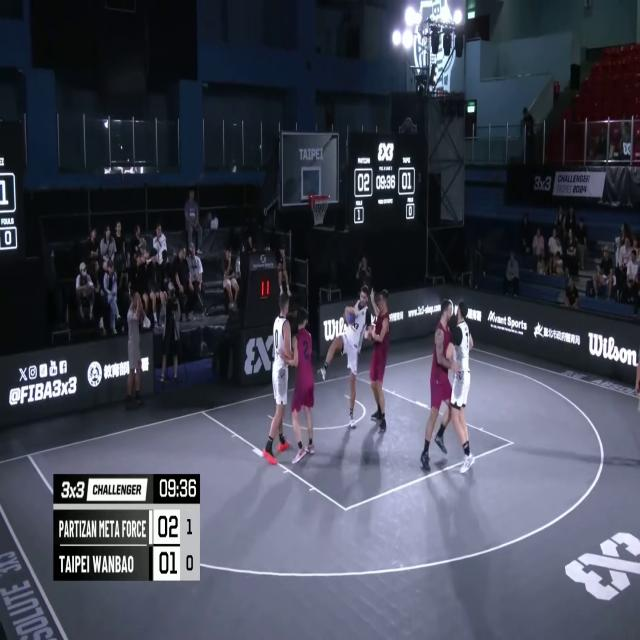ball: (343, 305, 356, 328)
hoop: (310, 192, 329, 227)
player: (318, 286, 376, 434), (421, 301, 455, 472), (264, 292, 296, 466), (445, 298, 474, 473), (290, 308, 315, 464), (367, 287, 390, 434)
